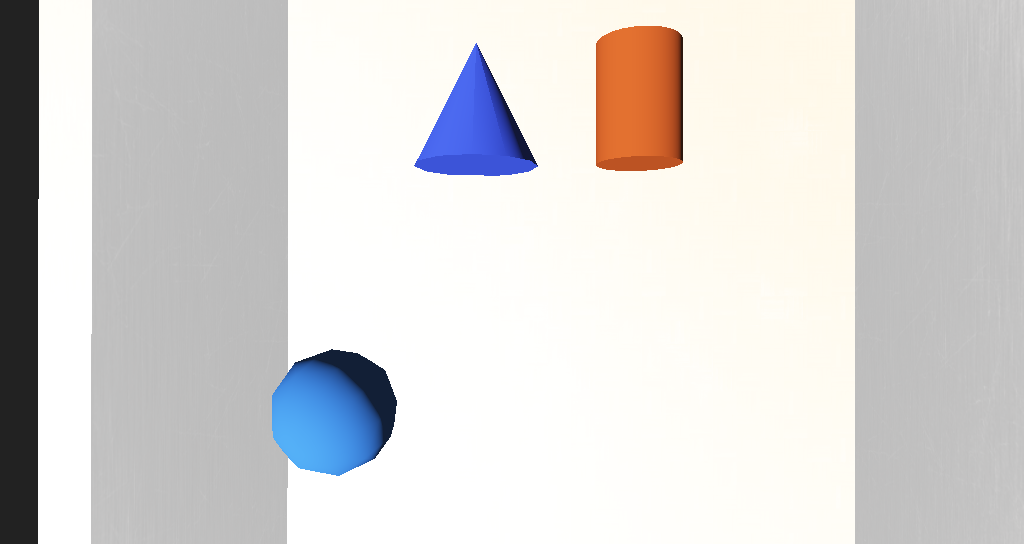cone: (519, 181, 559, 229)
cylinder: (428, 181, 488, 229)
sphere: (354, 298, 414, 341)
